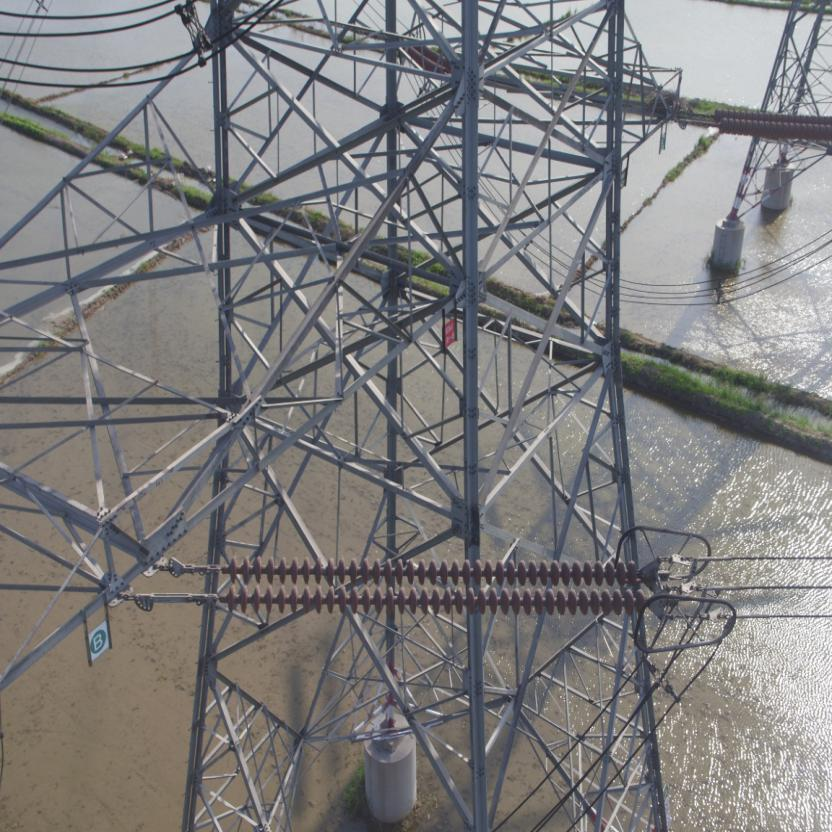insulator: (202, 551, 656, 617)
